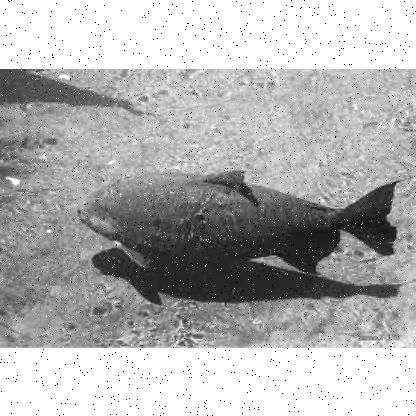ikan-pacu: (78, 168, 380, 266)
